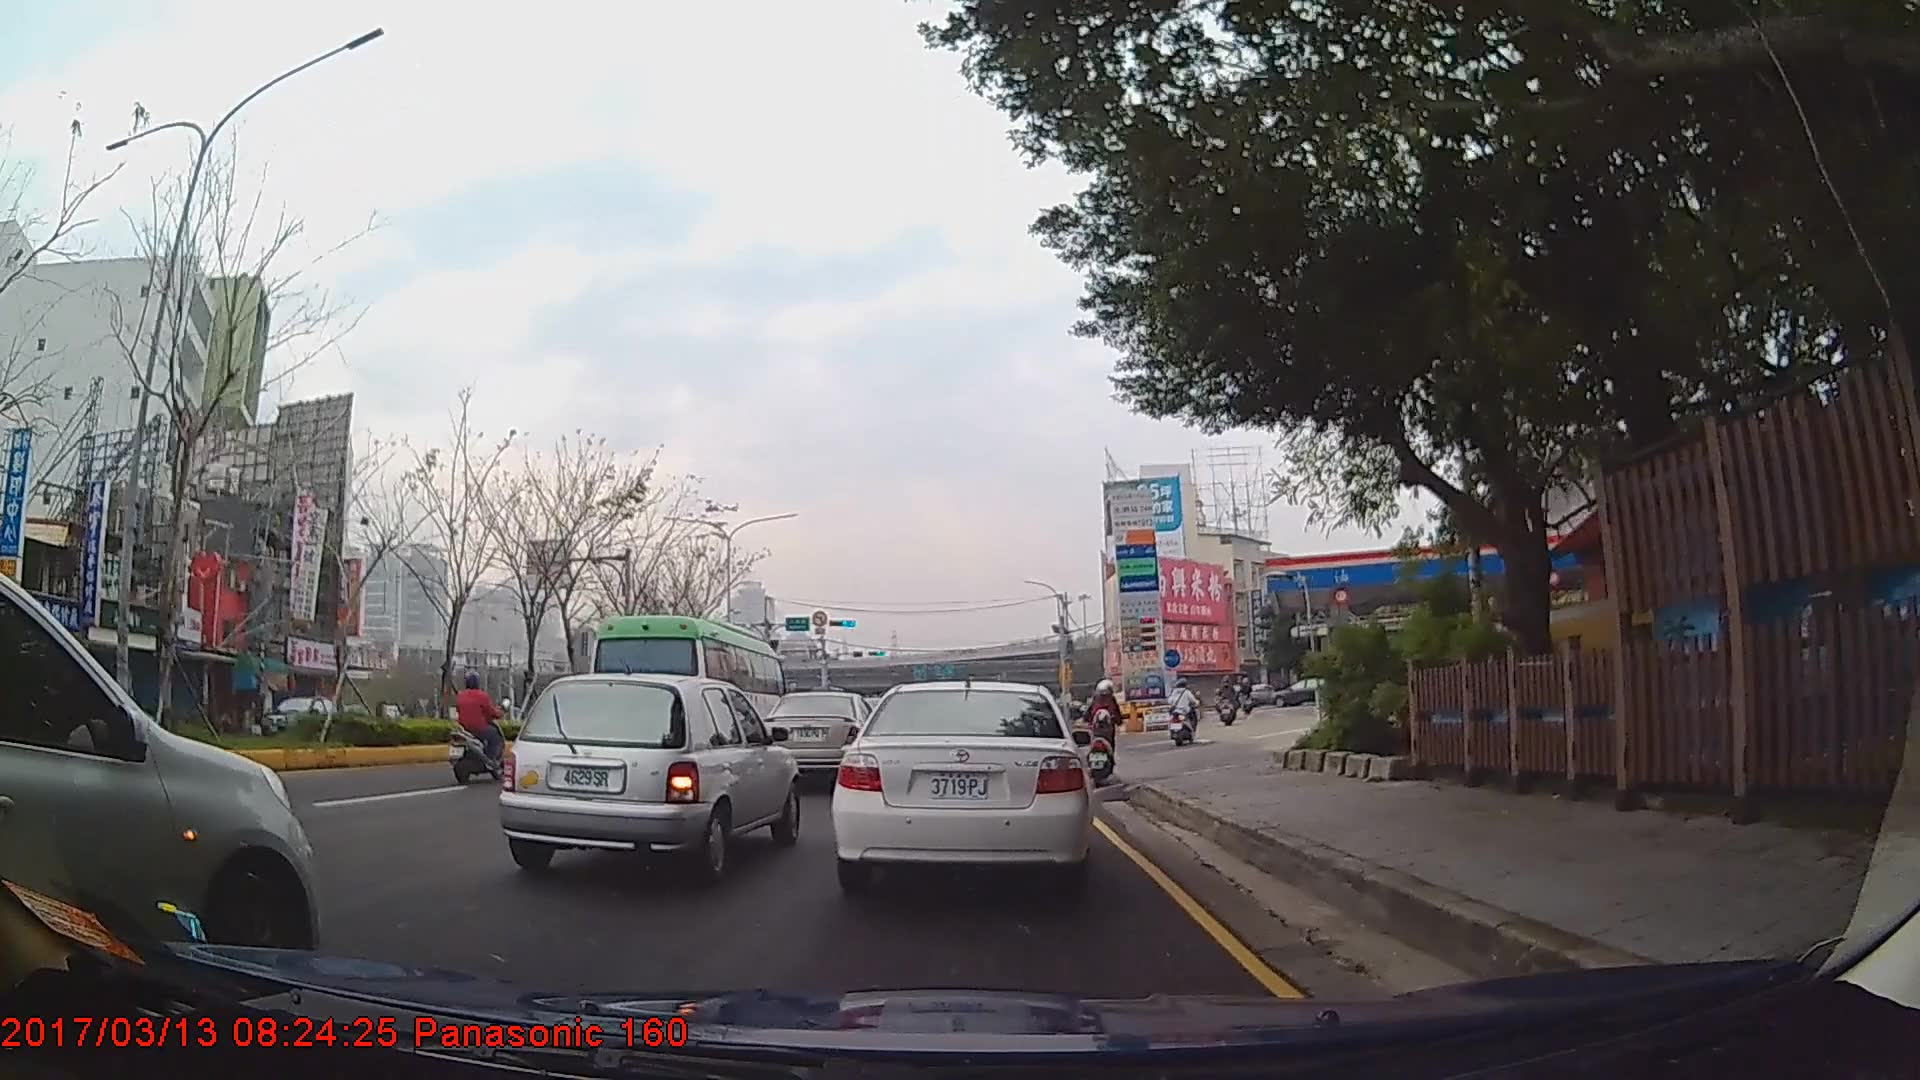rider: (448, 667, 512, 785), (1085, 682, 1124, 784), (1169, 678, 1197, 747), (1219, 674, 1239, 727)
vehicle: (0, 572, 322, 995), (498, 670, 800, 876), (832, 677, 1096, 897), (582, 609, 787, 777), (760, 688, 883, 780), (257, 691, 344, 738), (1268, 677, 1338, 707)
